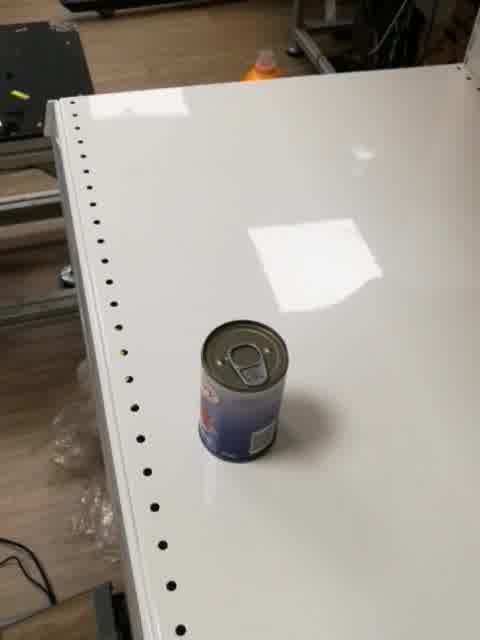sardine: (198, 319, 289, 464)
